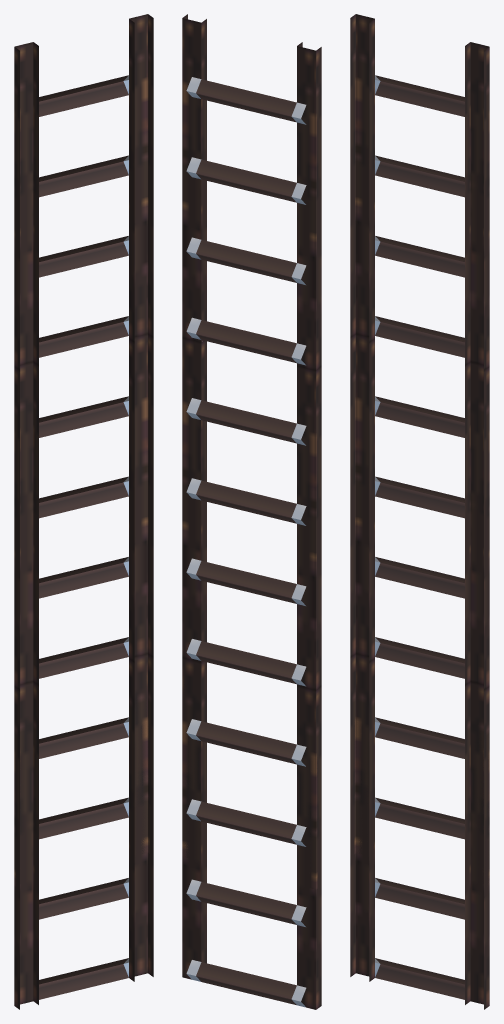
File: LadderSet.fbx
The picture shows the model from 3 angles, left to right: view 1: azimuth 30°, elevation 25°; view 2: azimuth 150°, elevation 25°; view 3: azimuth 330°, elevation 25°; orthographic projection.
Parts seen in each view (by area): view 1: Ladder_Bottom, Ladder_Mid; view 2: Ladder_Bottom, Ladder_Mid; view 3: Ladder_Bottom, Ladder_Mid.
Part boxes in pixels (x1,y1,x2,y2): Ladder_Bottom: (14,14,153,889); Ladder_Mid: (14,654,153,1009); Ladder_Bottom: (182,14,321,889); Ladder_Mid: (182,658,321,1009); Ladder_Bottom: (350,14,489,886); Ladder_Mid: (350,654,489,1009).
Size of the model in its own units: 0.1458 by 1 by 0.0208.
